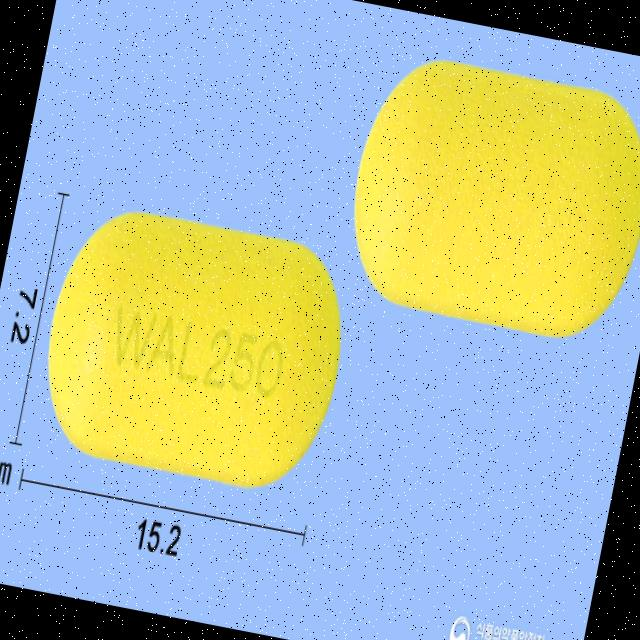Clotin: (28, 197, 361, 498), (333, 46, 640, 348)
